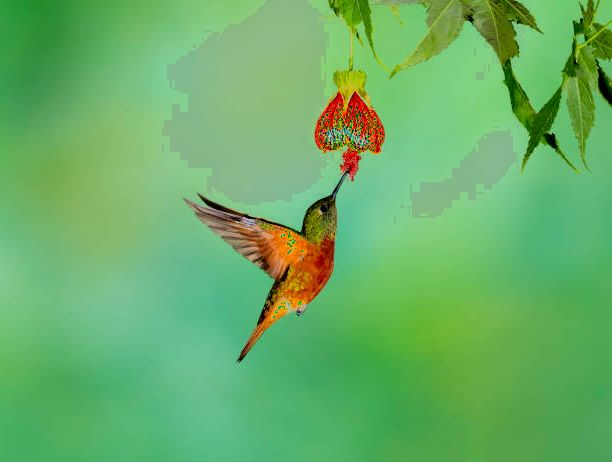Bird: (180, 163, 353, 367)
